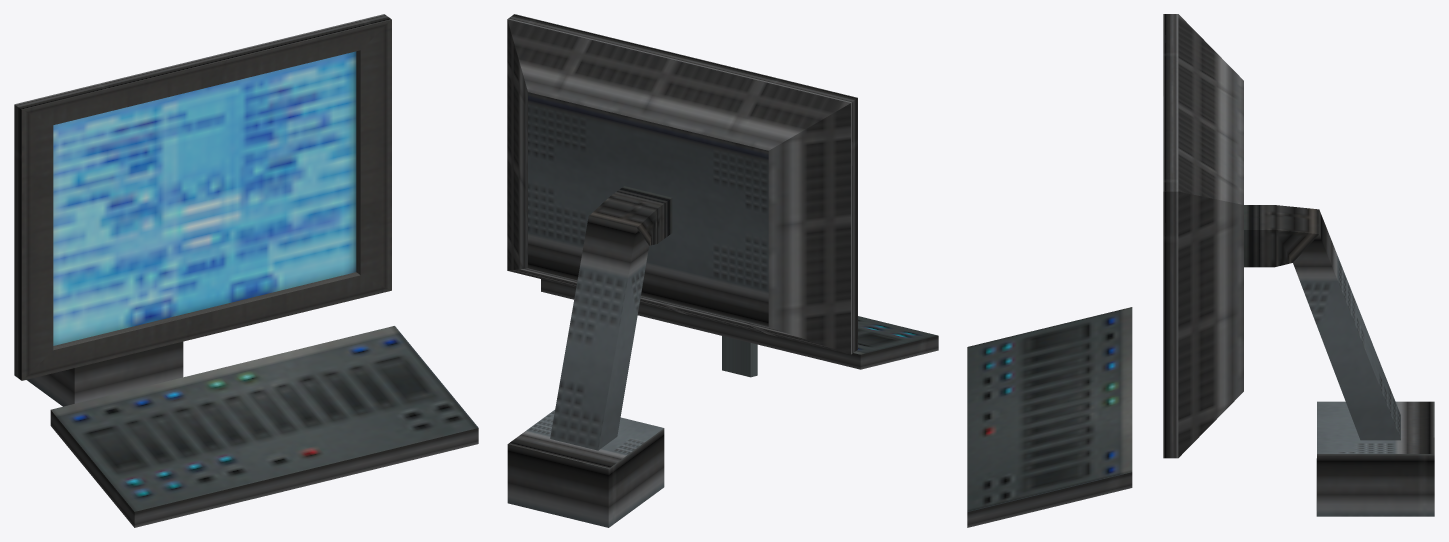
The model's file is pc-mesa.fbx.
3 renders of one model, left to right at view 1: azimuth 30°, elevation 25°; view 2: azimuth 150°, elevation 25°; view 3: azimuth 270°, elevation 25°, orthographic. The views are drawn at different scales.
Parts seen in each view (by area): view 1: Cylinder.001; view 2: Cylinder.001; view 3: Cylinder.001.
Part boxes in pixels (left/top/right/bottom): Cylinder.001: left=14, top=14, right=478, bottom=527; Cylinder.001: left=507, top=14, right=938, bottom=527; Cylinder.001: left=967, top=14, right=1434, bottom=527.
Bounding box in the file's own units: 0.905 × 0.921 × 1.01.
